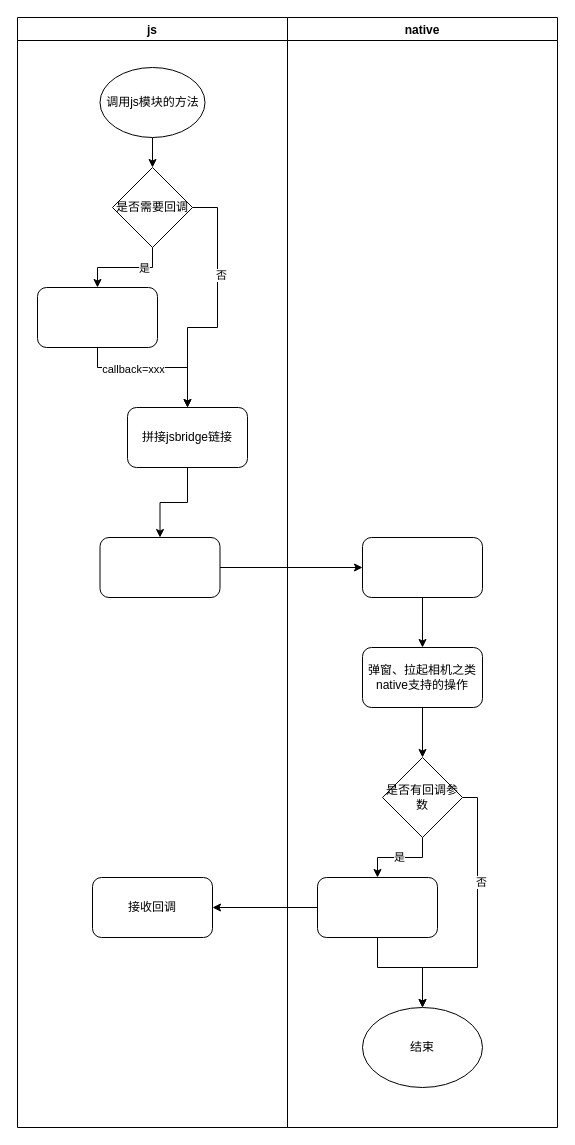
This 575x1145 diagram has some shape labels left out. The centre of each missing label's shape, as x and y in pixels:
创建iframe，赋值src，append入body: point 159,567
把回调参数，处理结果拼接注入webview context：xxx({"ret":0}): point 377,907
生成全局唯一回调句柄，挂载在window下: point 97,317
通过shouldoverideUrlLoading拦截请求: point 422,567
